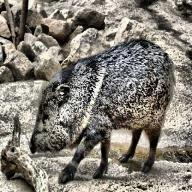boar: (11, 36, 192, 168)
